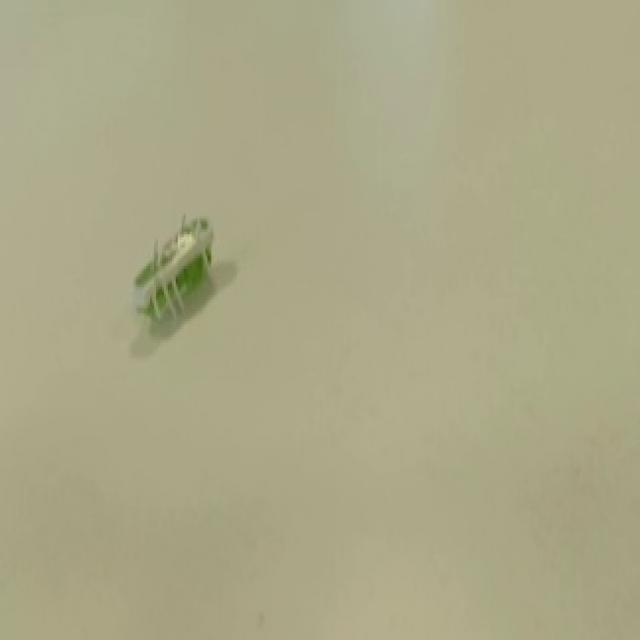4_NanoBug_Blanco: (93, 192, 259, 372)
